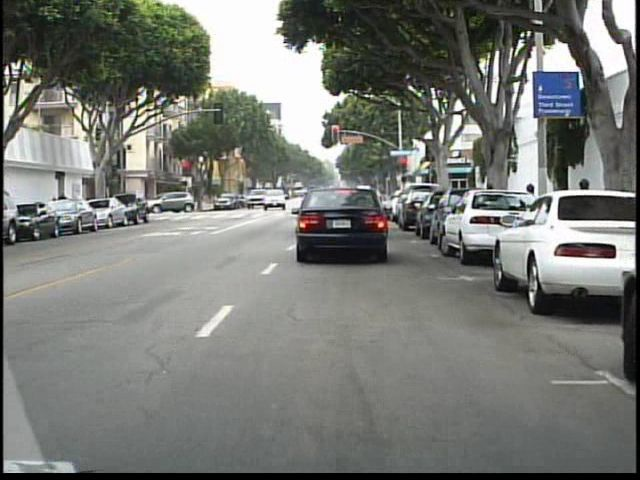person: (53, 187, 71, 225), (155, 190, 170, 218)
